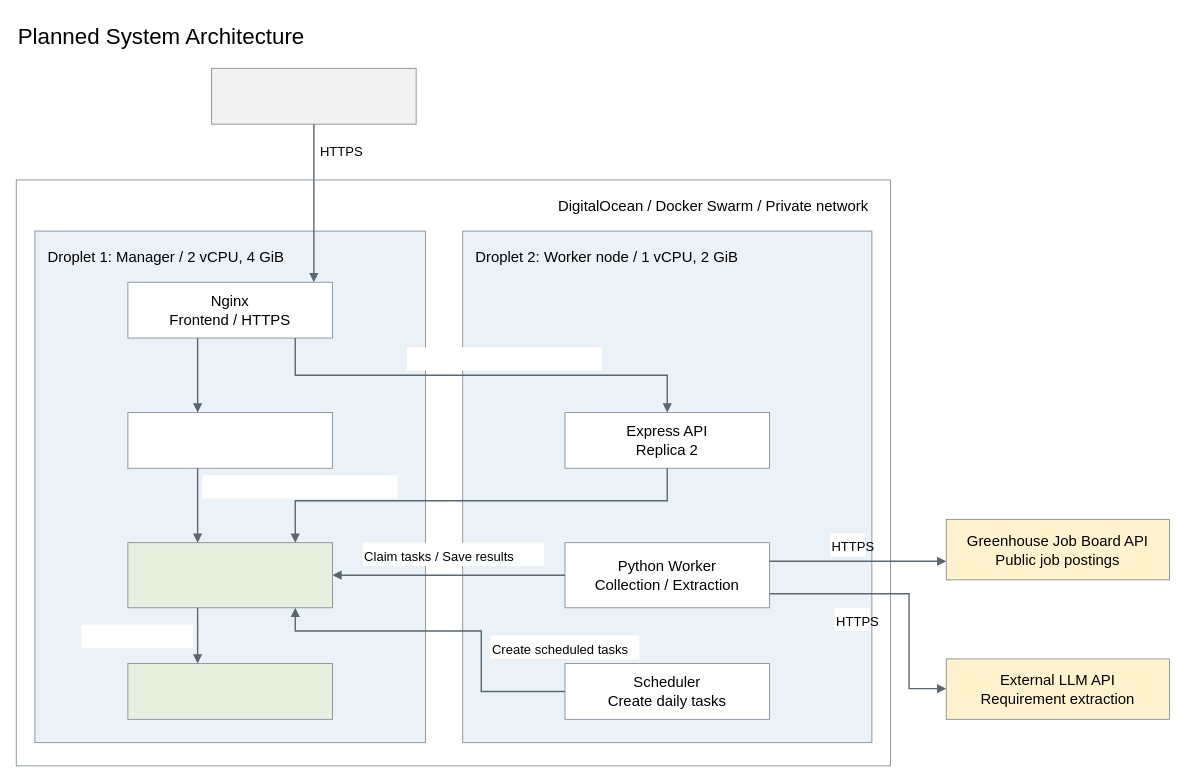
Image size: 1186x782. Some labels were removed from this diagram. The shapes that lost their labels are listed below. From the top down, each one's centre as x and y in pixels, then its label:
At (313,95): "Client User / Admin".
At (504,358): "Swarm service load balancing".
At (229,440): "Express API Replica 1".
At (299,486): "Queries / Writes / Task creation".
At (229,575): "PostgreSQL Jobs / History / Users / Tasks".
At (137,635): "Persistent mount".
At (229,691): "DigitalOcean Volume 20 GiB / PostgreSQL data".
